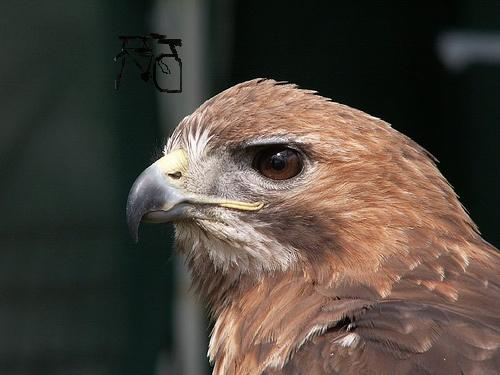tampered: (115, 34, 182, 93)
